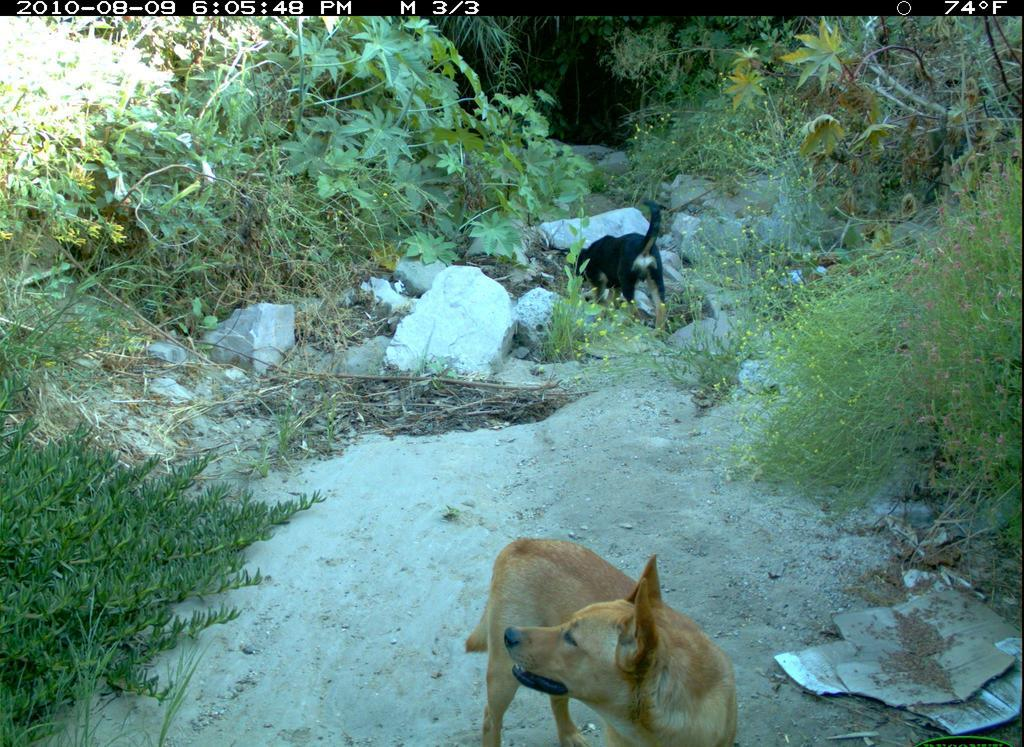dog: (451, 515, 745, 743), (556, 190, 689, 341)
